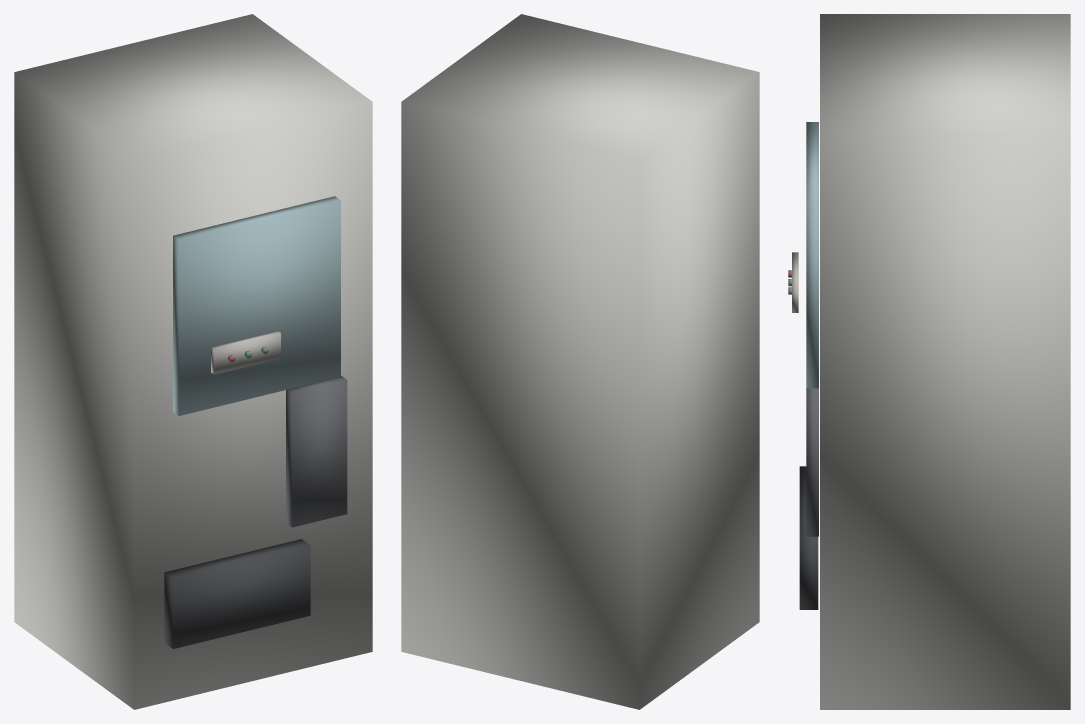
The model's file is snack_vending_machine.glb.
The picture shows the model from 3 angles, left to right: view 1: azimuth 30°, elevation 25°; view 2: azimuth 150°, elevation 25°; view 3: azimuth 270°, elevation 25°; orthographic projection. The views are drawn at different scales.
Visible parts, largest first — view 1: world; view 2: world; view 3: world.
Boxes of the visible parts, x1=… form: world: x1=14, y1=14, x2=372, y2=709; world: x1=401, y1=14, x2=759, y2=709; world: x1=788, y1=14, x2=1070, y2=709.
Bounding box in the file's own units: 0.78 × 1.72 × 0.766.
